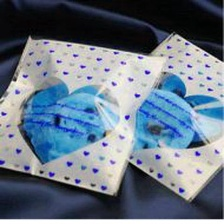snack: (0, 26, 173, 201), (89, 25, 224, 208)
